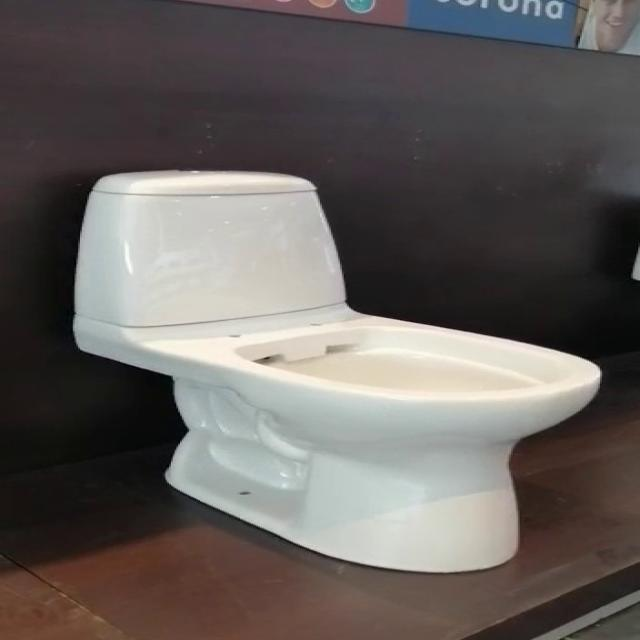toilet: (71, 168, 602, 572)
